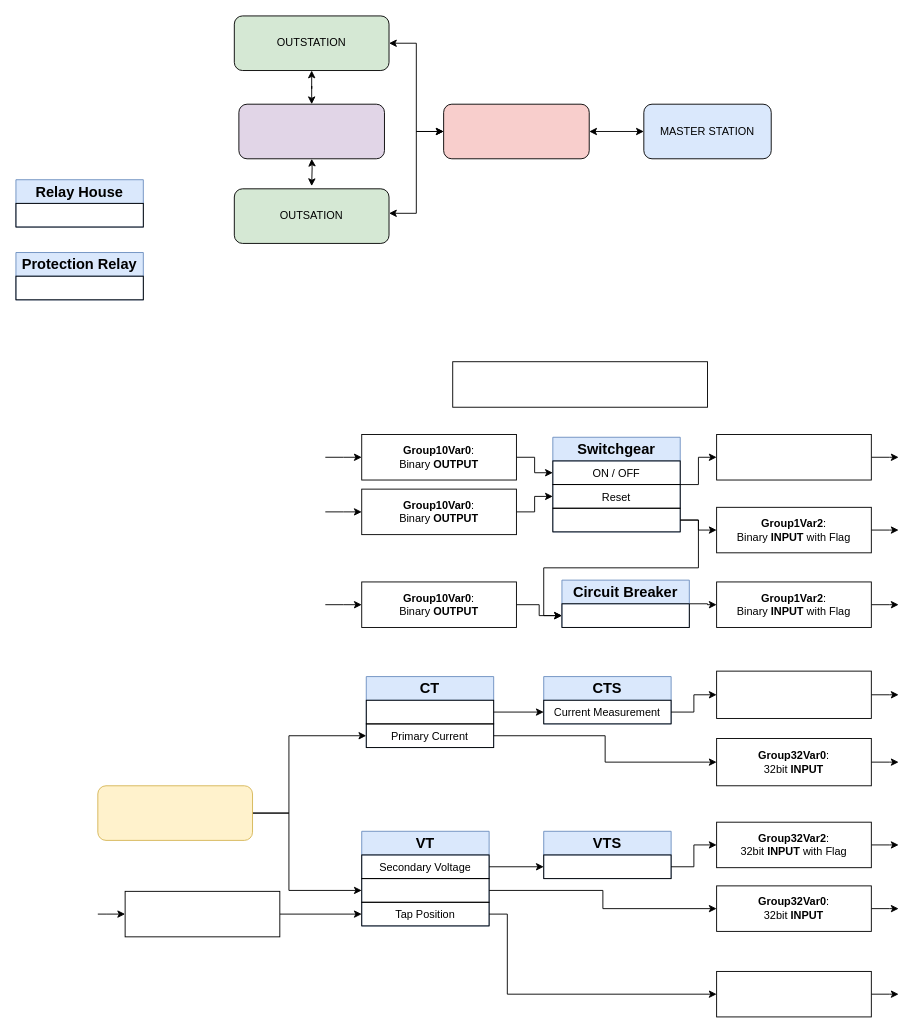
This 922x1033 diagram has some shape labels left out. The centre of each missing label's shape, as x and y in pixels:
Close / Open: the point at 625,615
DNP3 Protocol: the point at 516,131
Fault/Trip: the point at 616,519
Group1Var0 : Binary INPUT: the point at 793,457
Group32Var1 : 32bit INPUT with Flag: the point at 793,694
Group32Var5 : Single precision INPUT: the point at 793,994
Group41Var3 : Single precision OUTPUT: the point at 202,913
Helics: the point at 175,812
INPUT : reporting measurement or status OUTPUT : command from Master Station: the point at 580,384
IPC Protocol: the point at 311,131
Primary Voltage: the point at 425,890
Secondary Current: the point at 429,711
Voltage Measurement: the point at 607,866
